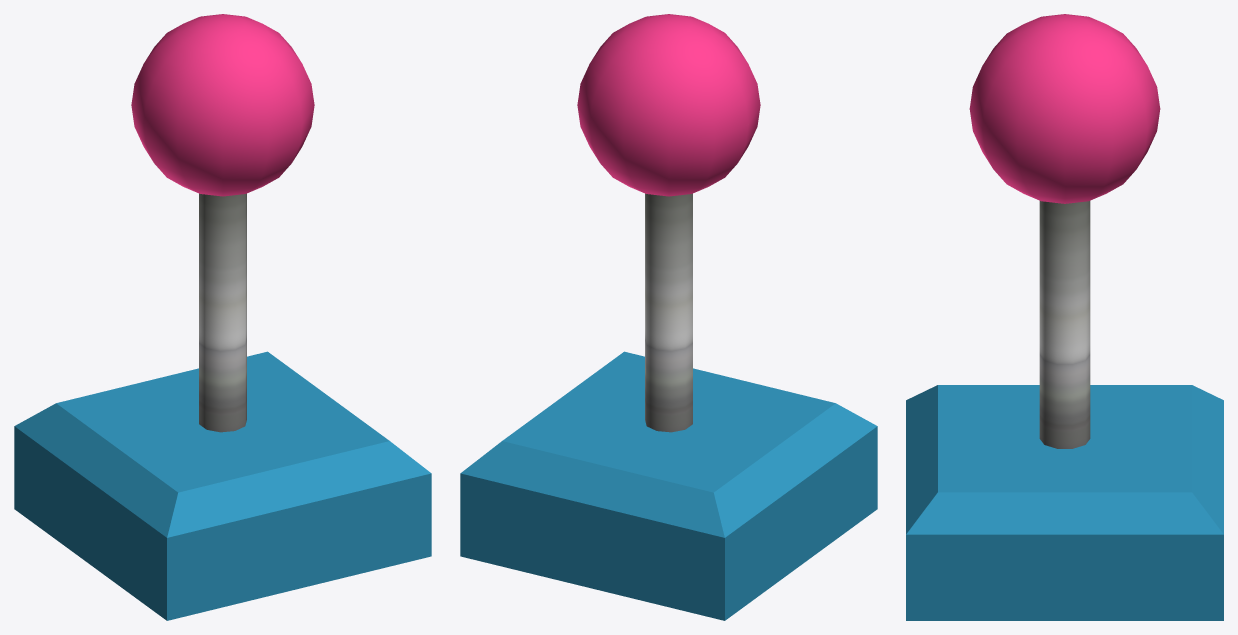
File: OBJ_Test_Lever.fbx
3 renders of one model, left to right at view 1: azimuth 30°, elevation 25°; view 2: azimuth 150°, elevation 25°; view 3: azimuth 270°, elevation 25°, orthographic. The views are drawn at different scales.
Visible parts, largest first — view 1: Base, Lever_Ball, Lever; view 2: Base, Lever_Ball, Lever; view 3: Base, Lever_Ball, Lever.
Boxes of the visible parts, x1,y1,x2,y2 form: Base: [14, 351, 431, 620]; Lever_Ball: [131, 14, 314, 196]; Lever: [199, 193, 246, 432]; Base: [460, 351, 877, 620]; Lever_Ball: [577, 14, 760, 196]; Lever: [645, 193, 692, 432]; Base: [906, 385, 1223, 620]; Lever_Ball: [969, 14, 1160, 203]; Lever: [1039, 201, 1090, 448].
Size of the model in its own units: 0.05 by 0.0922 by 0.05.
